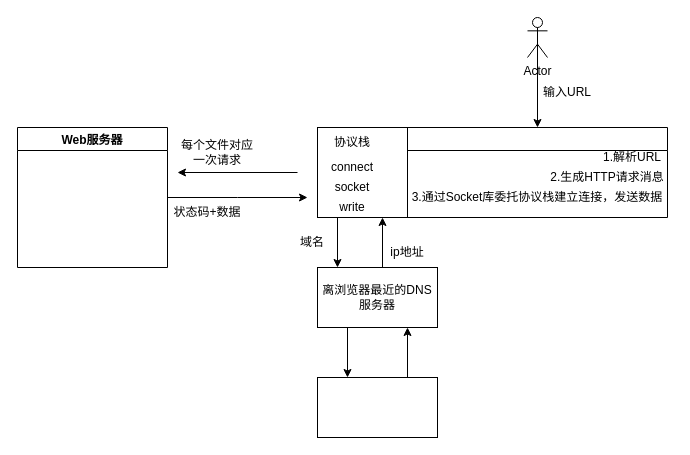
The diagram is 690 pixels wide and 455 high, and some of its shapes have lost their labels. The box of each missing label's shape, as (x1, y1, x2, y2) in pixels:
根DNS服务器: (316, 376, 438, 438)
浏览器: (406, 126, 668, 218)
